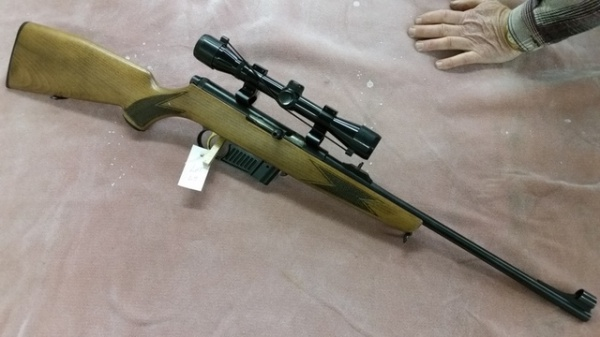ak47: (10, 23, 595, 322)
